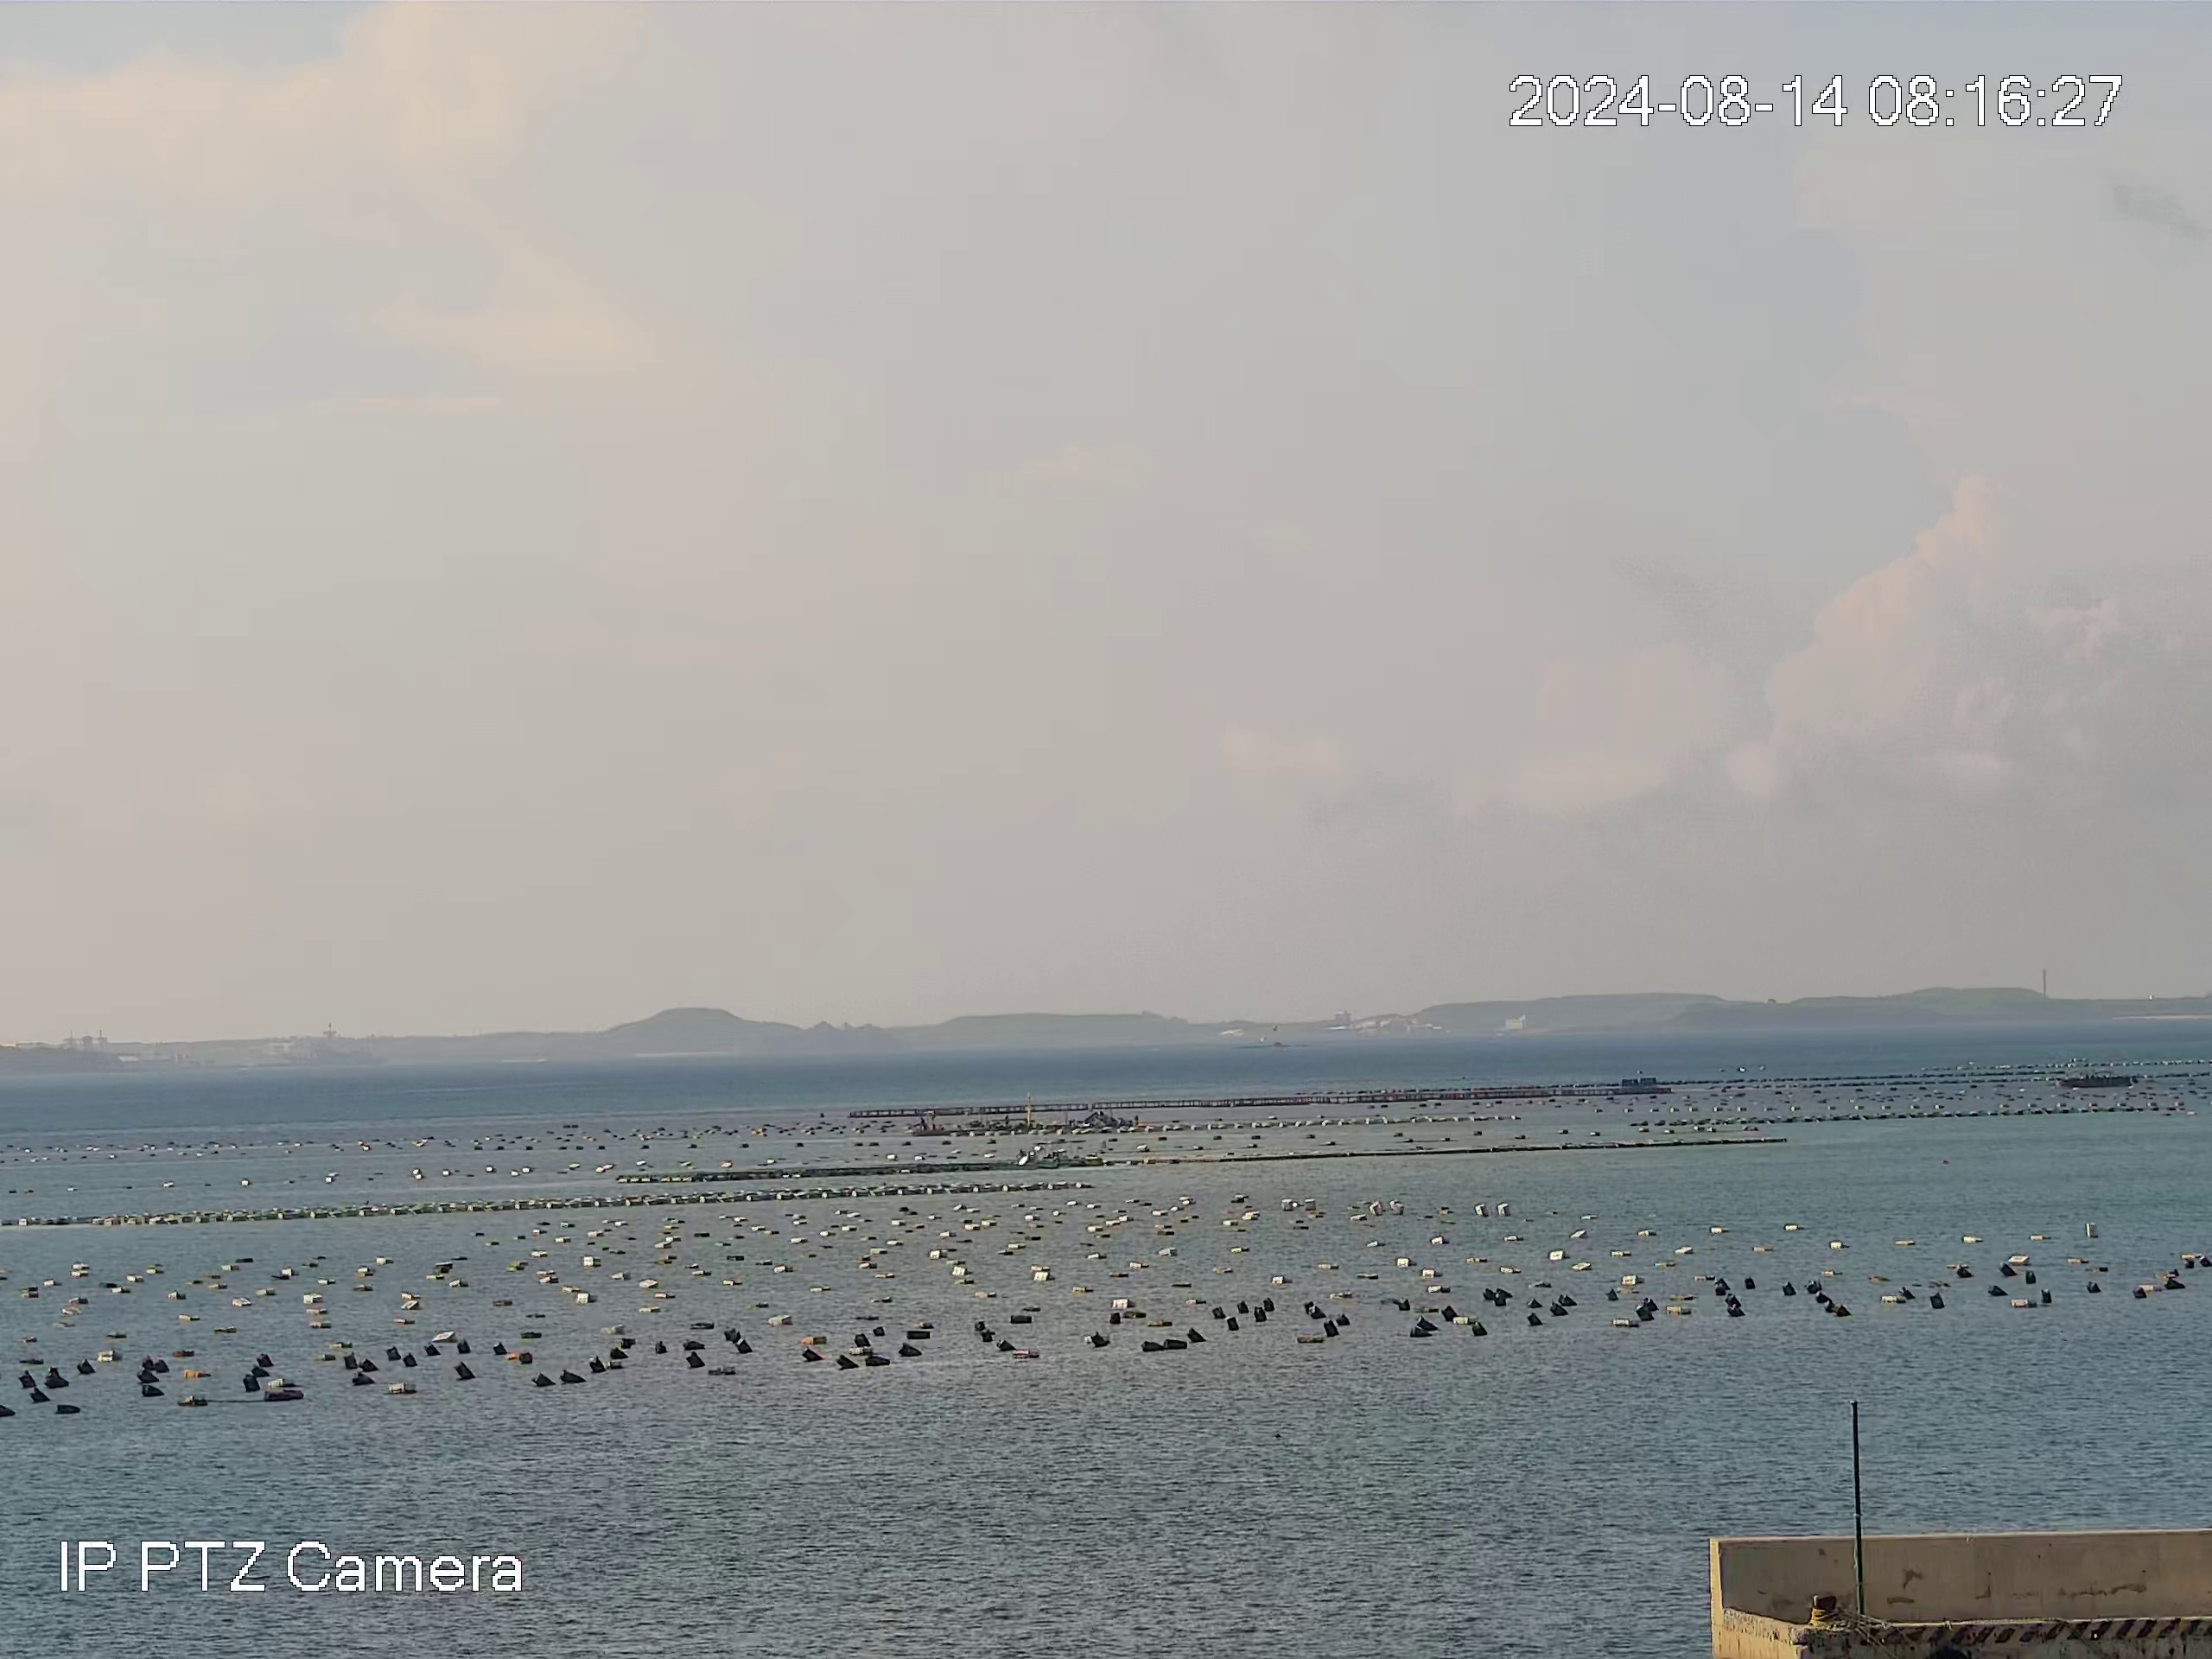boat: (2055, 1065, 2141, 1091), (1022, 1140, 1099, 1168), (913, 1114, 961, 1138)
